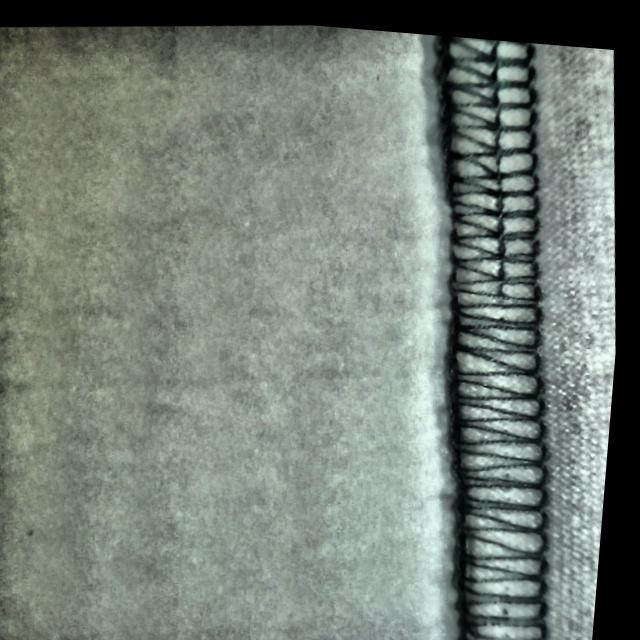Stitch: (410, 28, 586, 503)
